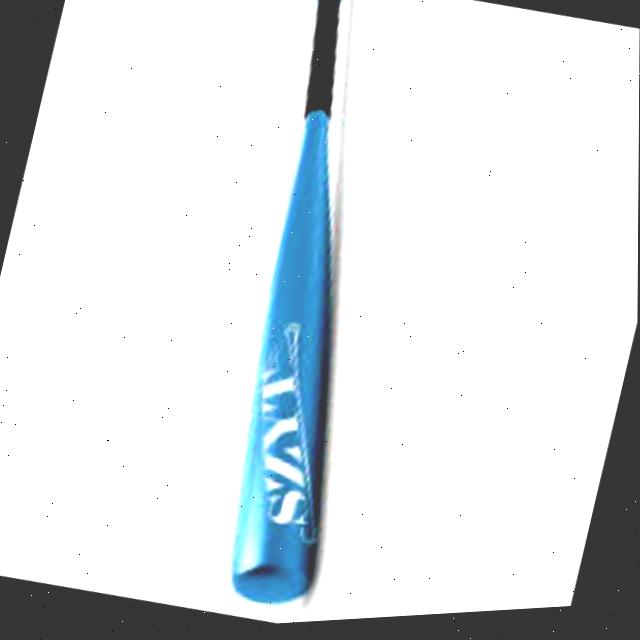baseball bat: (231, 0, 341, 615)
